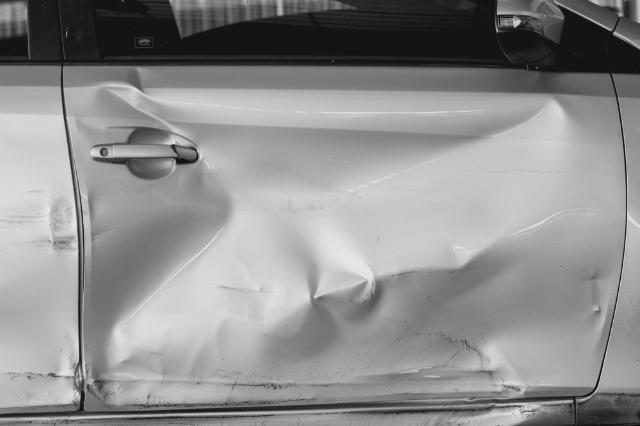dent: (80, 67, 615, 407)
scratch: (0, 183, 77, 255)
